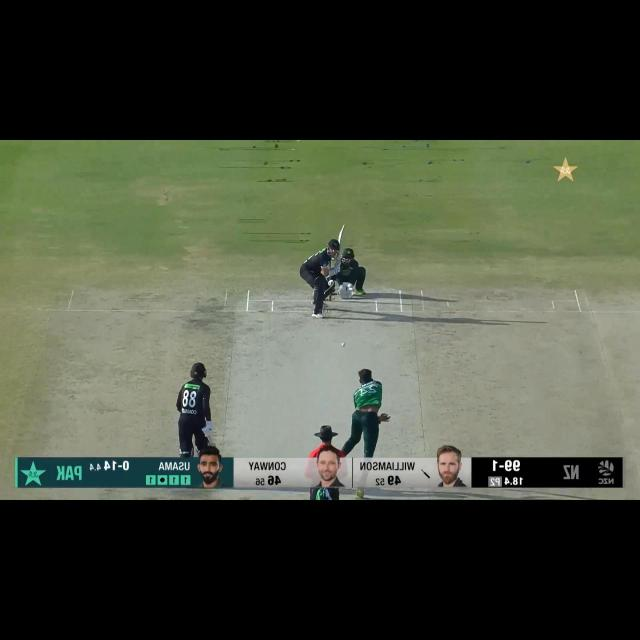bat: (335, 222, 347, 248), (210, 443, 218, 450)
toe: (340, 223, 346, 232)
